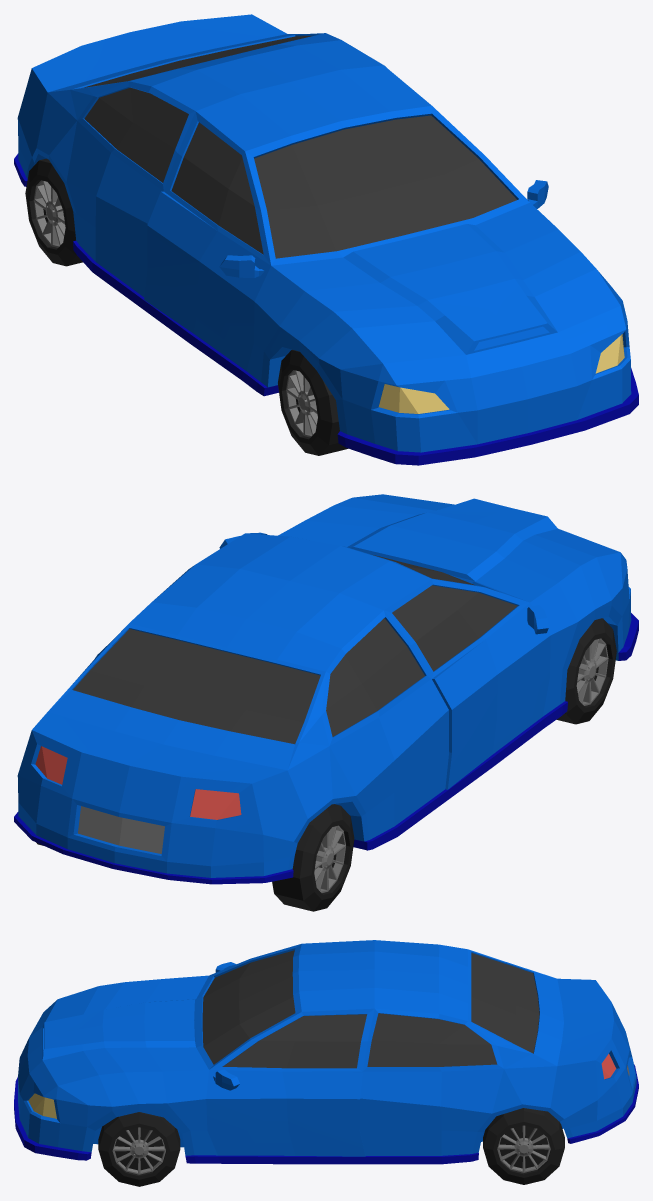
File: blue.glb
3 renders of one model, top to bottom at view 1: azimuth 30°, elevation 25°; view 2: azimuth 150°, elevation 25°; view 3: azimuth 270°, elevation 25°, orthographic. The views are drawn at different scales.
Visible parts, largest first — view 1: SportsCar, SportsCar_FrontRightWheel, SportsCar_BackWheels; view 2: SportsCar, SportsCar_BackWheels, SportsCar_FrontRightWheel; view 3: SportsCar, SportsCar_BackWheels, SportsCar_FrontLeftWheel.
Part boxes in pixels (x1,y1,x2,y2): SportsCar: [14, 14, 638, 465]; SportsCar_FrontRightWheel: [278, 349, 348, 455]; SportsCar_BackWheels: [25, 158, 82, 266]; SportsCar: [14, 494, 638, 884]; SportsCar_BackWheels: [36, 804, 354, 911]; SportsCar_FrontRightWheel: [556, 618, 616, 724]; SportsCar: [14, 940, 638, 1164]; SportsCar_BackWheels: [483, 1108, 564, 1184]; SportsCar_FrontLeftWheel: [98, 1112, 180, 1186].
Bounding box in the file's own units: 1.8 × 1.16 × 3.97.
